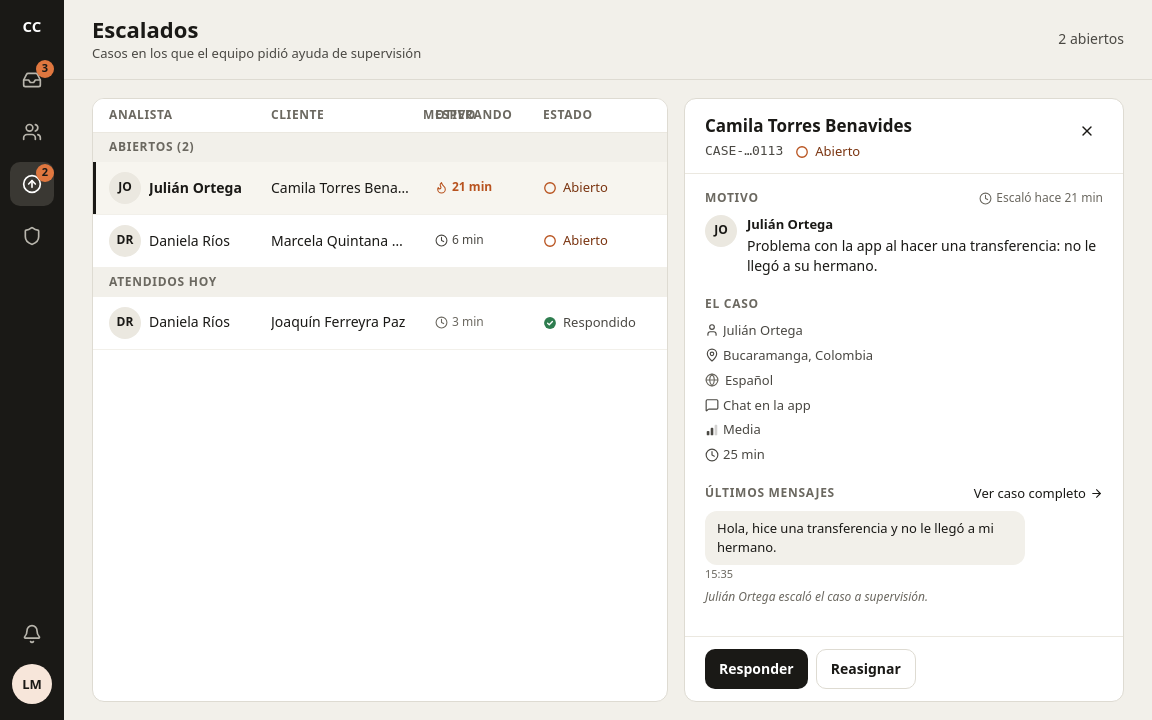
Test: escalations screen ("Escalados") › answers with a required note and reports it
Click the button "Responder".
click(756, 669)  # box [705,649,808,689]
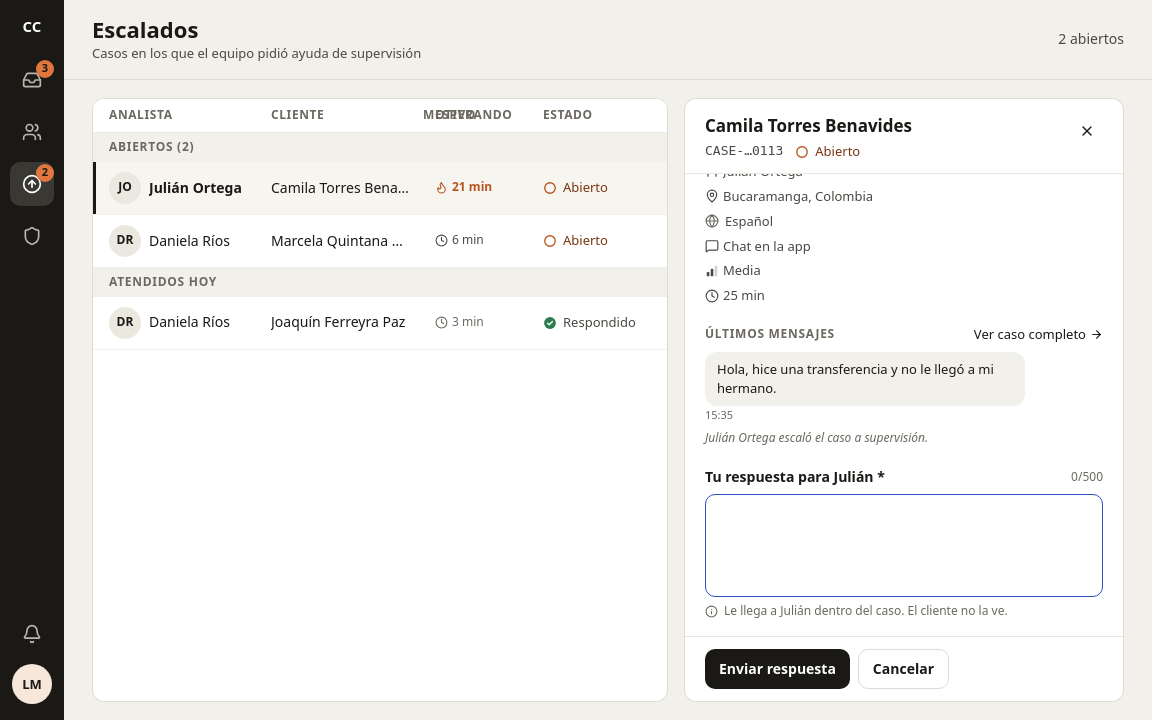
Click the button "Enviar respuesta".
click(777, 669)  # box [705,649,850,689]
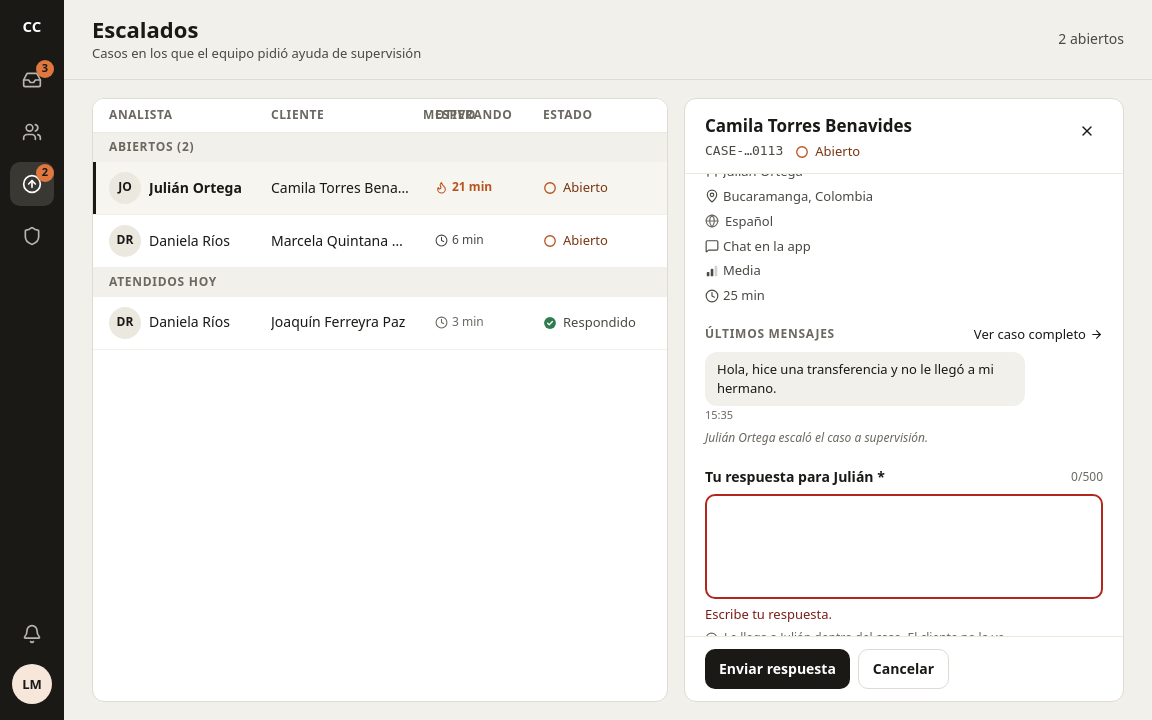
Check: the text "Escribe tu respuesta." is shown, box [705,605,832,623]
Type "Sigue tú con ella." into the text box labelled "Tu respuesta para Julián *".
click(904, 546); type("Sigue tú con ella.")  # box [705,494,1103,599]
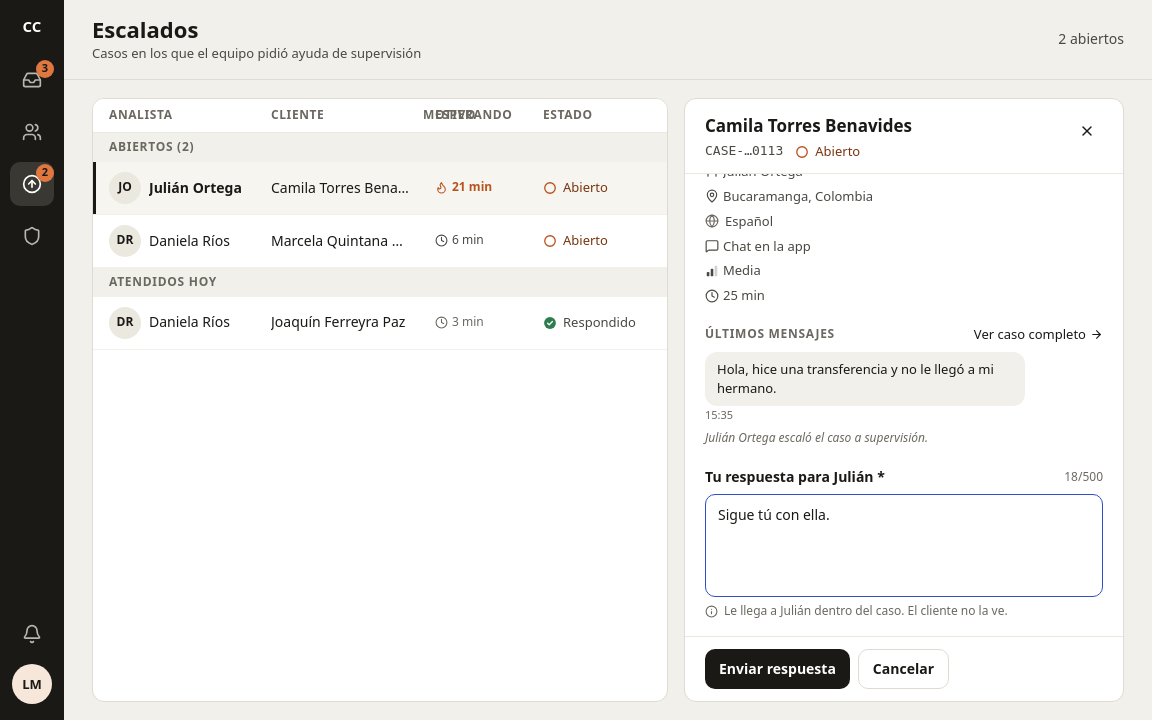
Check: the text "18/500" is shown, box [1064,469,1103,486]
Click the button "Enviar respuesta".
click(777, 669)  # box [705,649,850,689]
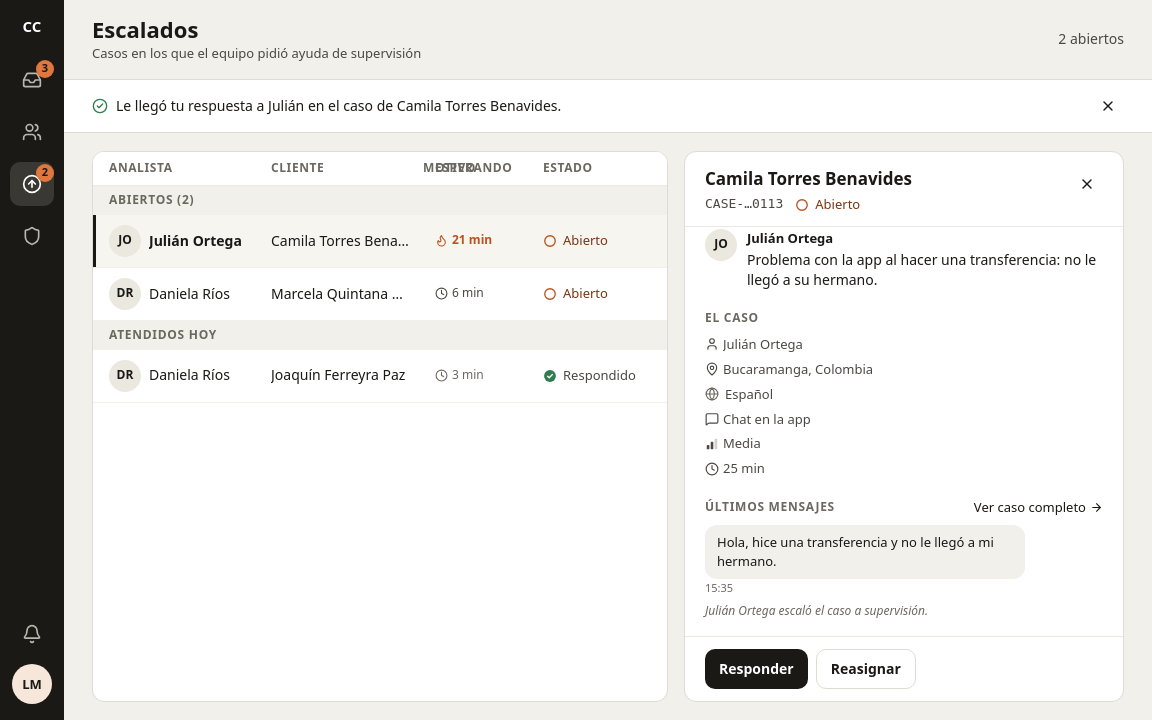
Check: the text "Le llegó tu respuesta a Julián en el caso de Camila Torres Benavides." is shown, box [116,96,561,116]
